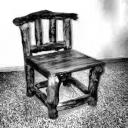chair_success: (7, 4, 109, 120)
